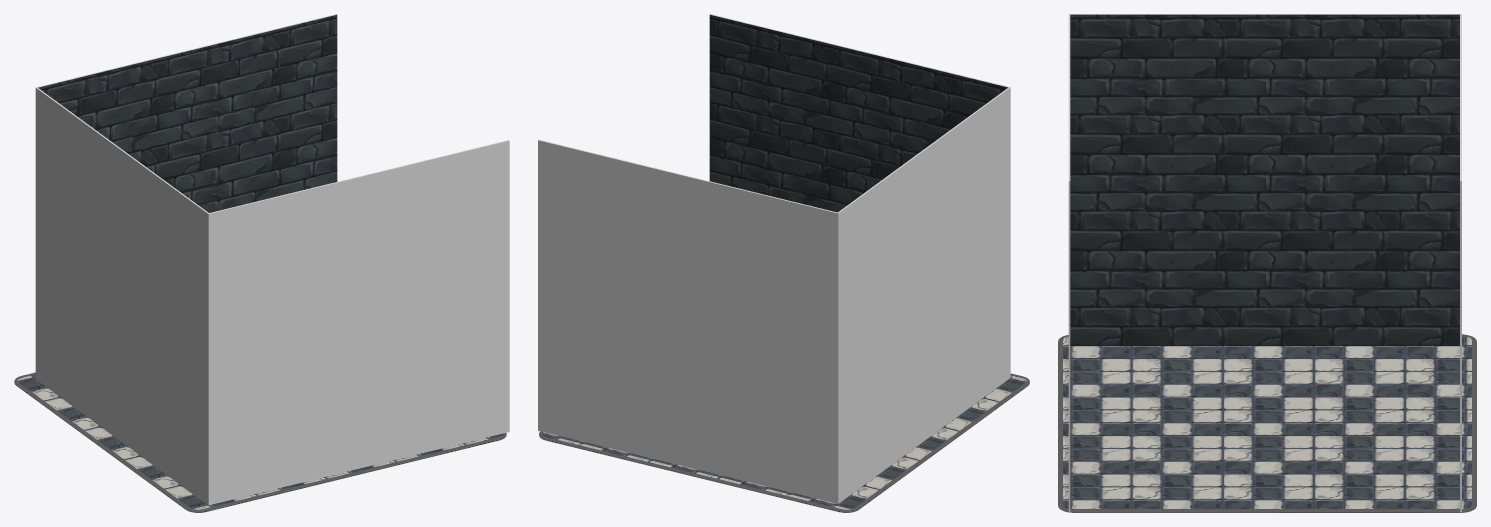
File: stanza hub 1.fbx
3 views of the same model, side by side, from view 1: azimuth 30°, elevation 25°; view 2: azimuth 150°, elevation 25°; view 3: azimuth 270°, elevation 25° (orthographic). The views are drawn at different scales.
Parts seen in each view (by area): view 1: muro.001, muro, muro.002, pavimento; view 2: muro.002, muro, muro.001, pavimento; view 3: muro, pavimento, muro.001, muro.002.
Part boxes in pixels (x1,y1,x2,y2): muro.001: [209, 140, 509, 504]; muro: [35, 87, 209, 505]; muro.002: [37, 14, 337, 212]; pavimento: [14, 372, 506, 512]; muro.002: [538, 139, 837, 503]; muro: [837, 87, 1010, 503]; muro.001: [709, 14, 1008, 212]; pavimento: [539, 373, 1029, 512]; muro: [1068, 14, 1461, 345]; pavimento: [1058, 334, 1476, 512]; muro.001: [1068, 14, 1070, 512]; muro.002: [1460, 14, 1461, 512].
Size of the model in its own units: 3847 by 3355 by 3822.
